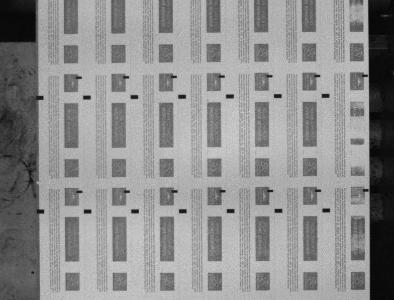qblock: (37, 209, 45, 214), (178, 94, 186, 99), (84, 209, 92, 214), (36, 95, 44, 100), (322, 93, 330, 98), (130, 95, 139, 99), (322, 208, 331, 212), (226, 94, 234, 98), (83, 95, 91, 99), (274, 94, 282, 98), (131, 209, 139, 213), (275, 209, 283, 213), (179, 209, 187, 213), (227, 209, 235, 213)
smallqblock: (267, 74, 273, 78), (76, 190, 83, 193), (363, 189, 370, 192), (363, 74, 369, 77), (124, 190, 130, 193), (268, 189, 274, 192), (316, 189, 322, 192), (220, 190, 226, 193), (315, 74, 321, 77), (172, 190, 178, 193), (219, 75, 225, 78), (76, 76, 82, 79), (171, 75, 177, 78), (123, 76, 129, 79)
